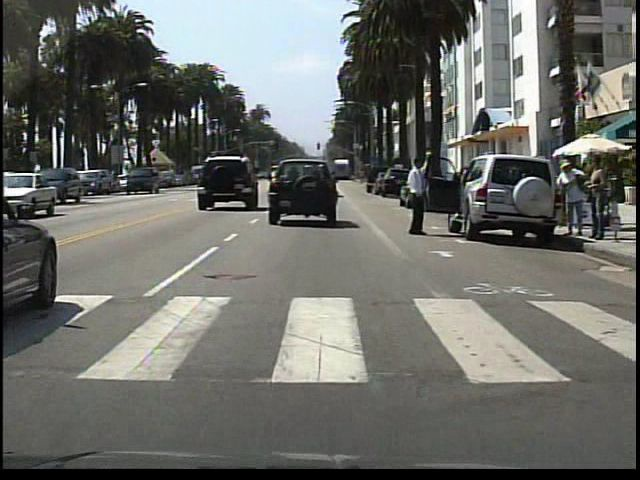person: (405, 150, 440, 245), (555, 152, 585, 242), (585, 150, 609, 245)
